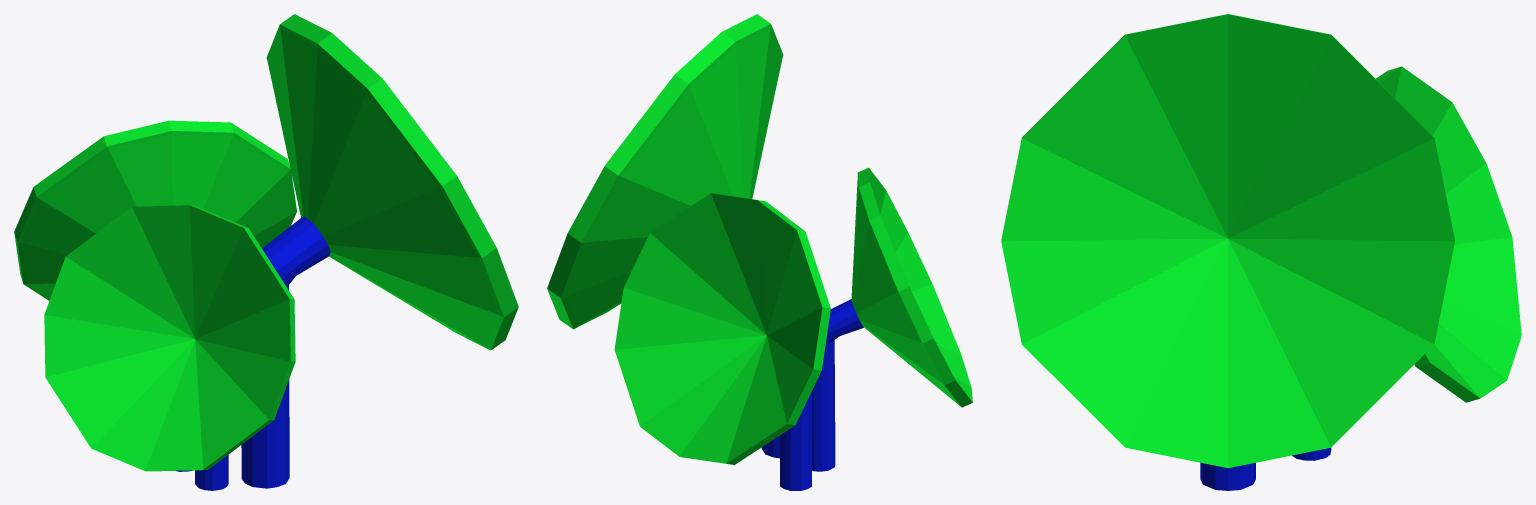
Rendered from FlowerThree.fbx.
3 views of the same model, side by side, from view 1: azimuth 30°, elevation 25°; view 2: azimuth 150°, elevation 25°; view 3: azimuth 270°, elevation 25° (orthographic). The views are drawn at different scales.
Visible parts, largest first — view 1: Cube.001; view 2: Cube.001; view 3: Cube.001.
Part boxes in pixels (box(x1,y1,x2,y2)): Cube.001: box(14, 14, 518, 490); Cube.001: box(547, 14, 972, 490); Cube.001: box(1001, 14, 1521, 490).
Size of the model in its own units: 265 by 269 by 252.
